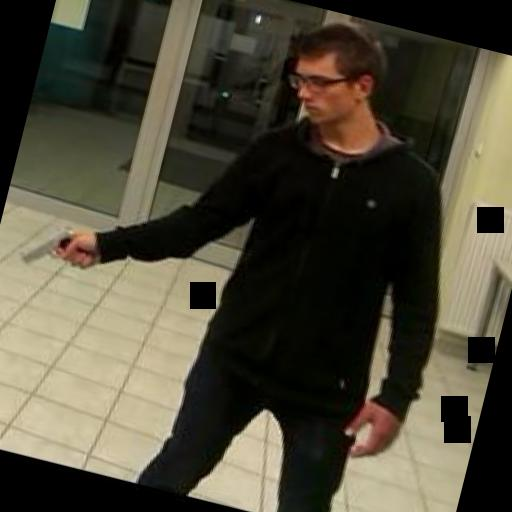Handgun: (14, 211, 96, 279)
